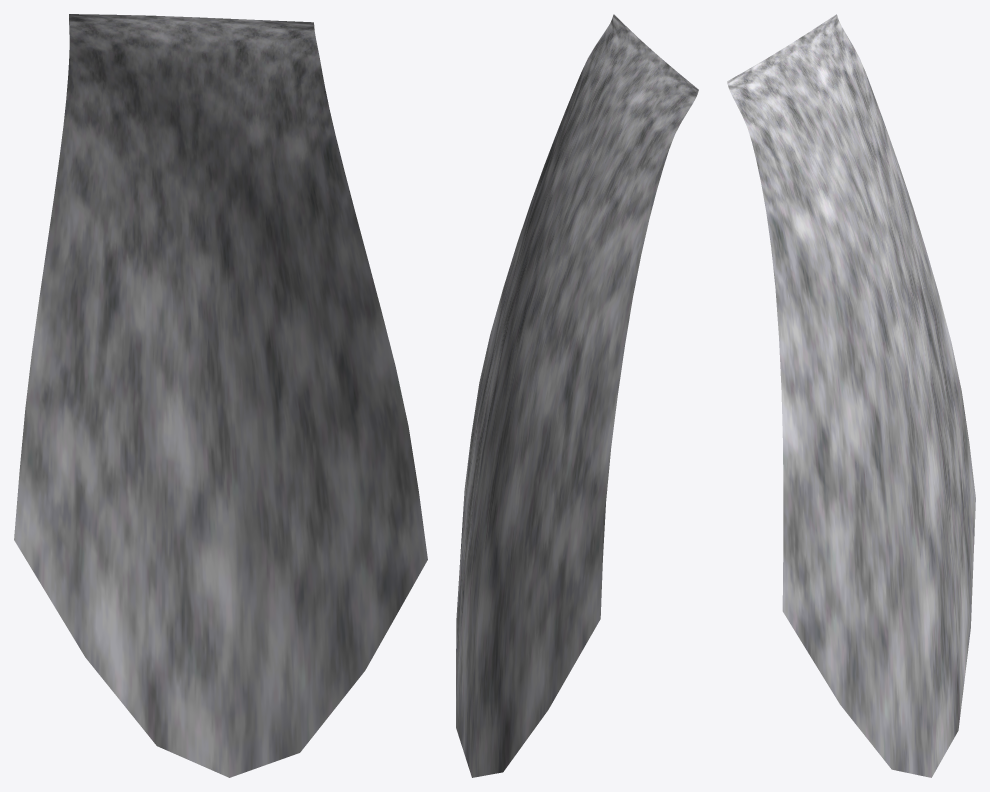
File: INST_MIRK_WATERFALL_WATERFALLINNEW01.fbx
The picture shows the model from 3 angles, left to right: view 1: azimuth 30°, elevation 25°; view 2: azimuth 150°, elevation 25°; view 3: azimuth 270°, elevation 25°; orthographic projection. The views are drawn at different scales.
Parts seen in each view (by area): view 1: INST_MIRK_WATERFALL_WATERFALLINNEW01; view 2: INST_MIRK_WATERFALL_WATERFALLINNEW01; view 3: INST_MIRK_WATERFALL_WATERFALLINNEW01.
Boxes of the visible parts, x1=… form: INST_MIRK_WATERFALL_WATERFALLINNEW01: x1=14, y1=14, x2=427, y2=777; INST_MIRK_WATERFALL_WATERFALLINNEW01: x1=456, y1=14, x2=698, y2=777; INST_MIRK_WATERFALL_WATERFALLINNEW01: x1=727, y1=14, x2=975, y2=777.
Bounding box in the file's own units: 50630 × 128451 × 42672.
1 material, 1 textured.
